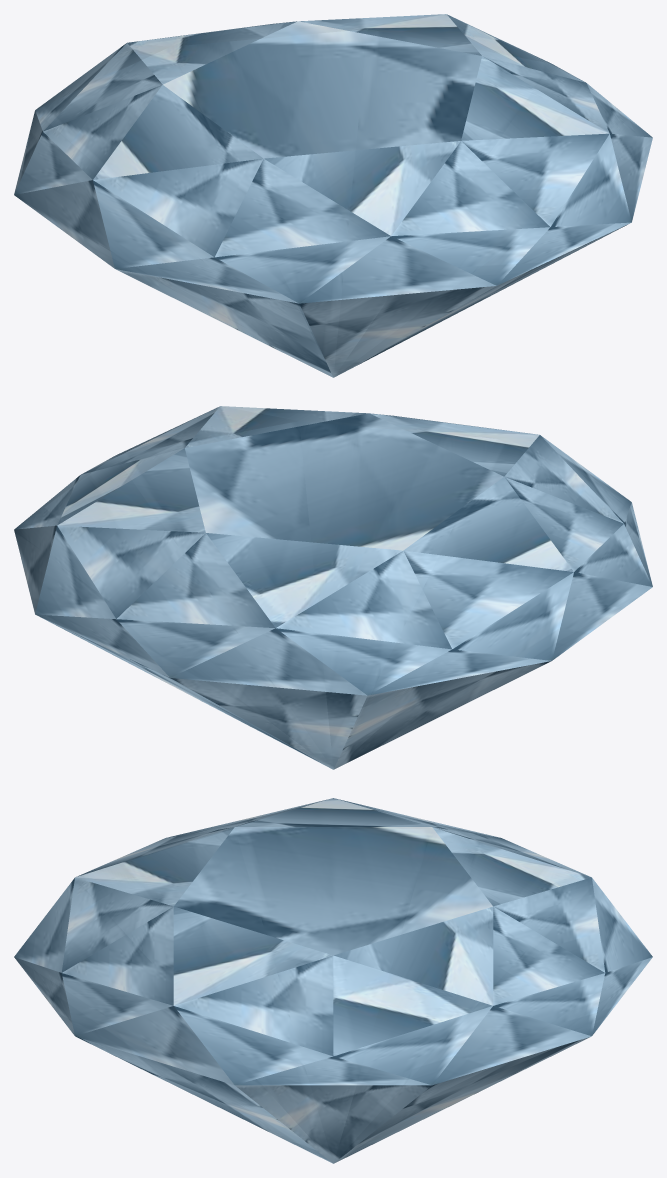
File: diamond.fbx
3 renders of one model, top to bottom at view 1: azimuth 30°, elevation 25°; view 2: azimuth 150°, elevation 25°; view 3: azimuth 270°, elevation 25°, orthographic. The views are drawn at different scales.
Visible parts, largest first — view 1: Icosphere; view 2: Icosphere; view 3: Icosphere.
Boxes of the visible parts, x1=… form: Icosphere: x1=14, y1=14, x2=652, y2=377; Icosphere: x1=14, y1=406, x2=652, y2=769; Icosphere: x1=14, y1=798, x2=652, y2=1163.
Size of the model in its own units: 0.0777 by 0.0394 by 0.0817.
1 material, 1 textured.
